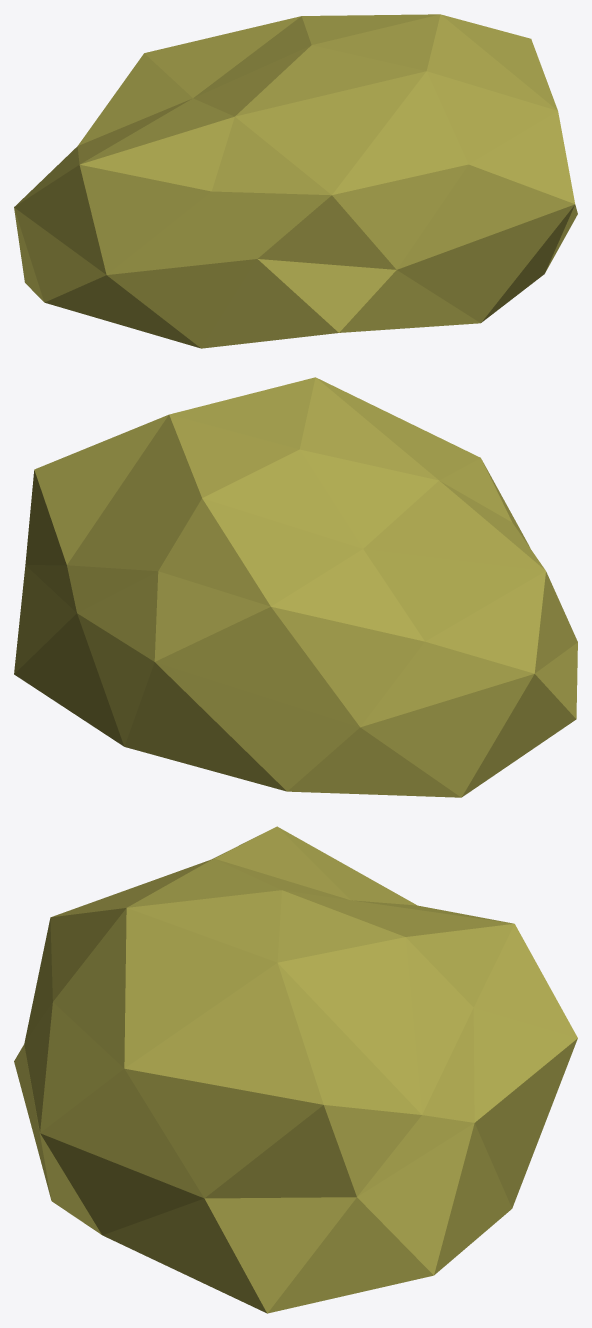
Rendered from enchantedforest_bush_1.fbx.
3 views of the same model, one above another, from view 1: azimuth 30°, elevation 25°; view 2: azimuth 150°, elevation 25°; view 3: azimuth 270°, elevation 25° (orthographic). The views are drawn at different scales.
Visible parts, largest first — view 1: Icosphere.001; view 2: Icosphere.001; view 3: Icosphere.001.
Boxes of the visible parts, x1=… form: Icosphere.001: x1=14, y1=14, x2=577, y2=348; Icosphere.001: x1=14, y1=377, x2=577, y2=797; Icosphere.001: x1=14, y1=826, x2=577, y2=1313.
Bounding box in the file's own units: 2.64 × 1.34 × 2.05.
